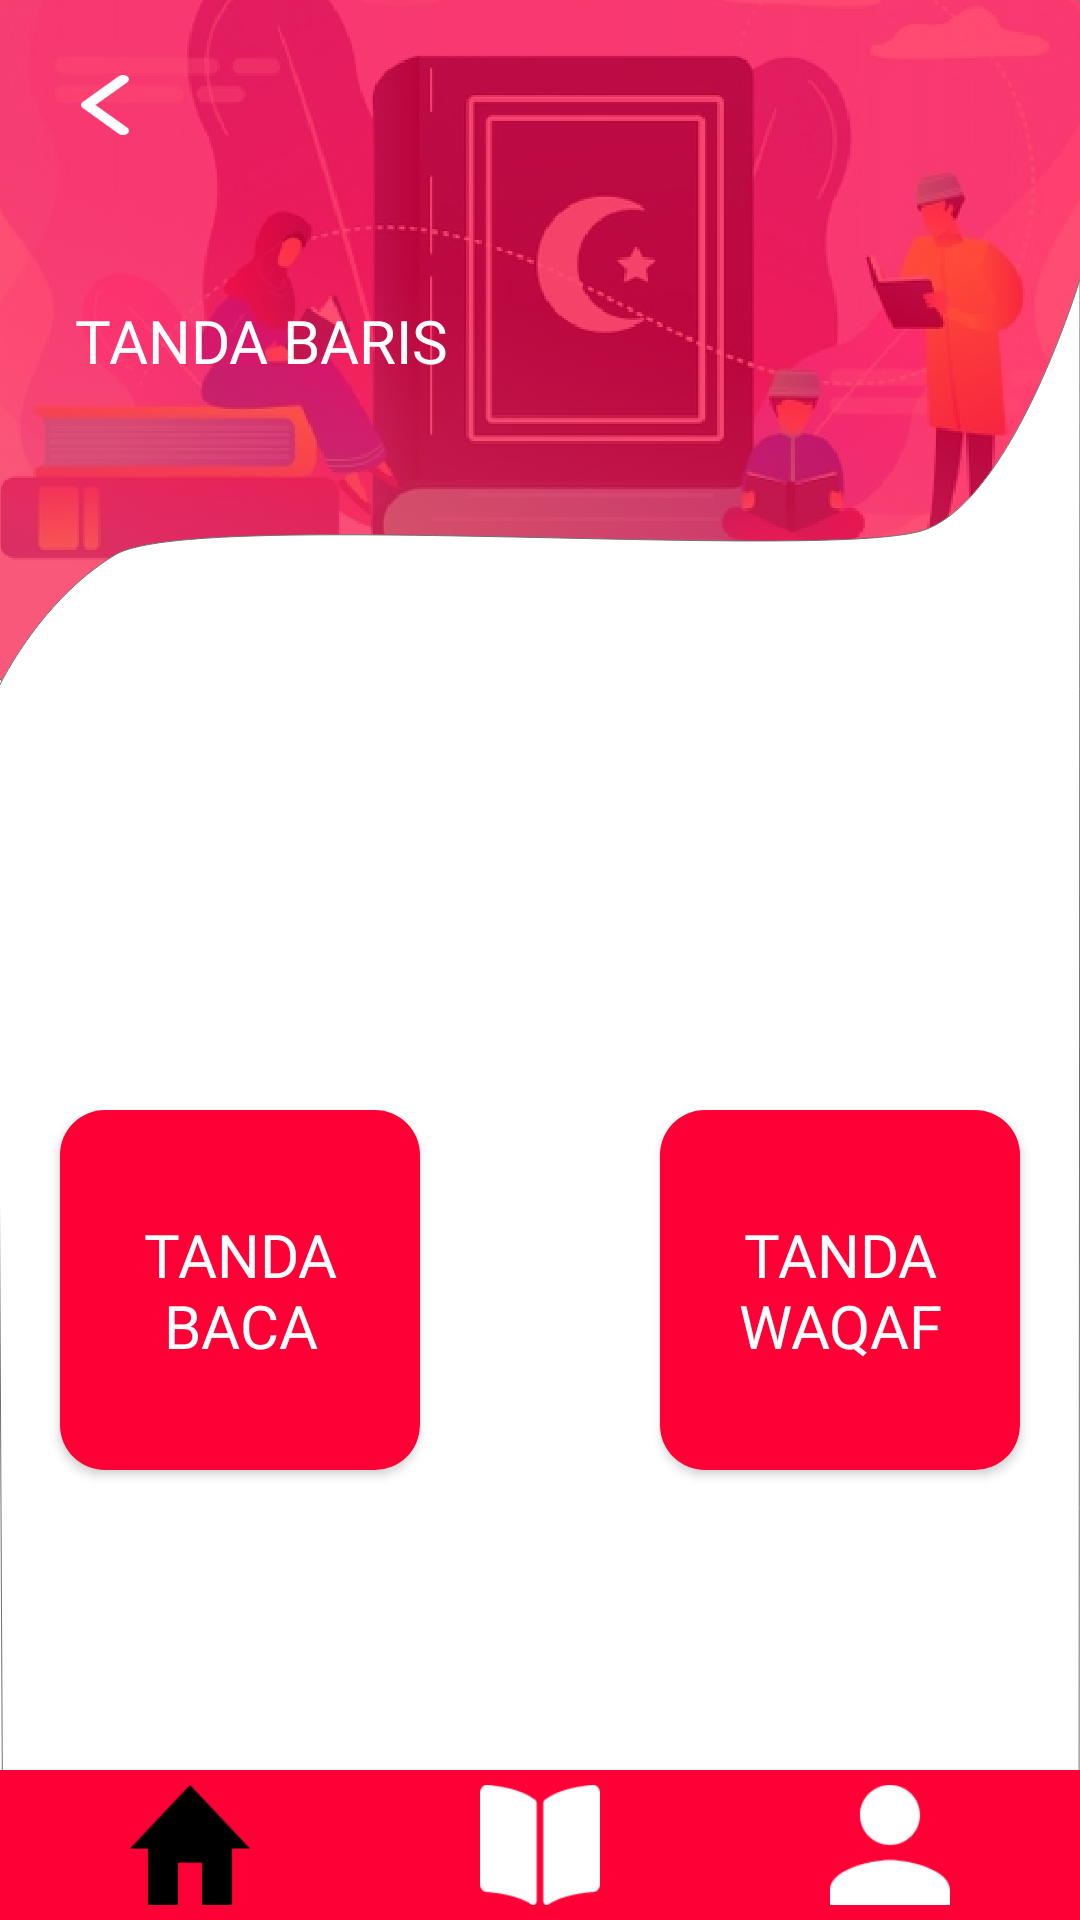

Point at icon controls on the screen. Image size 1080×1920, points as (x,y).
akun: (890,1845)
back: (105,105)
home: (190,1845)
